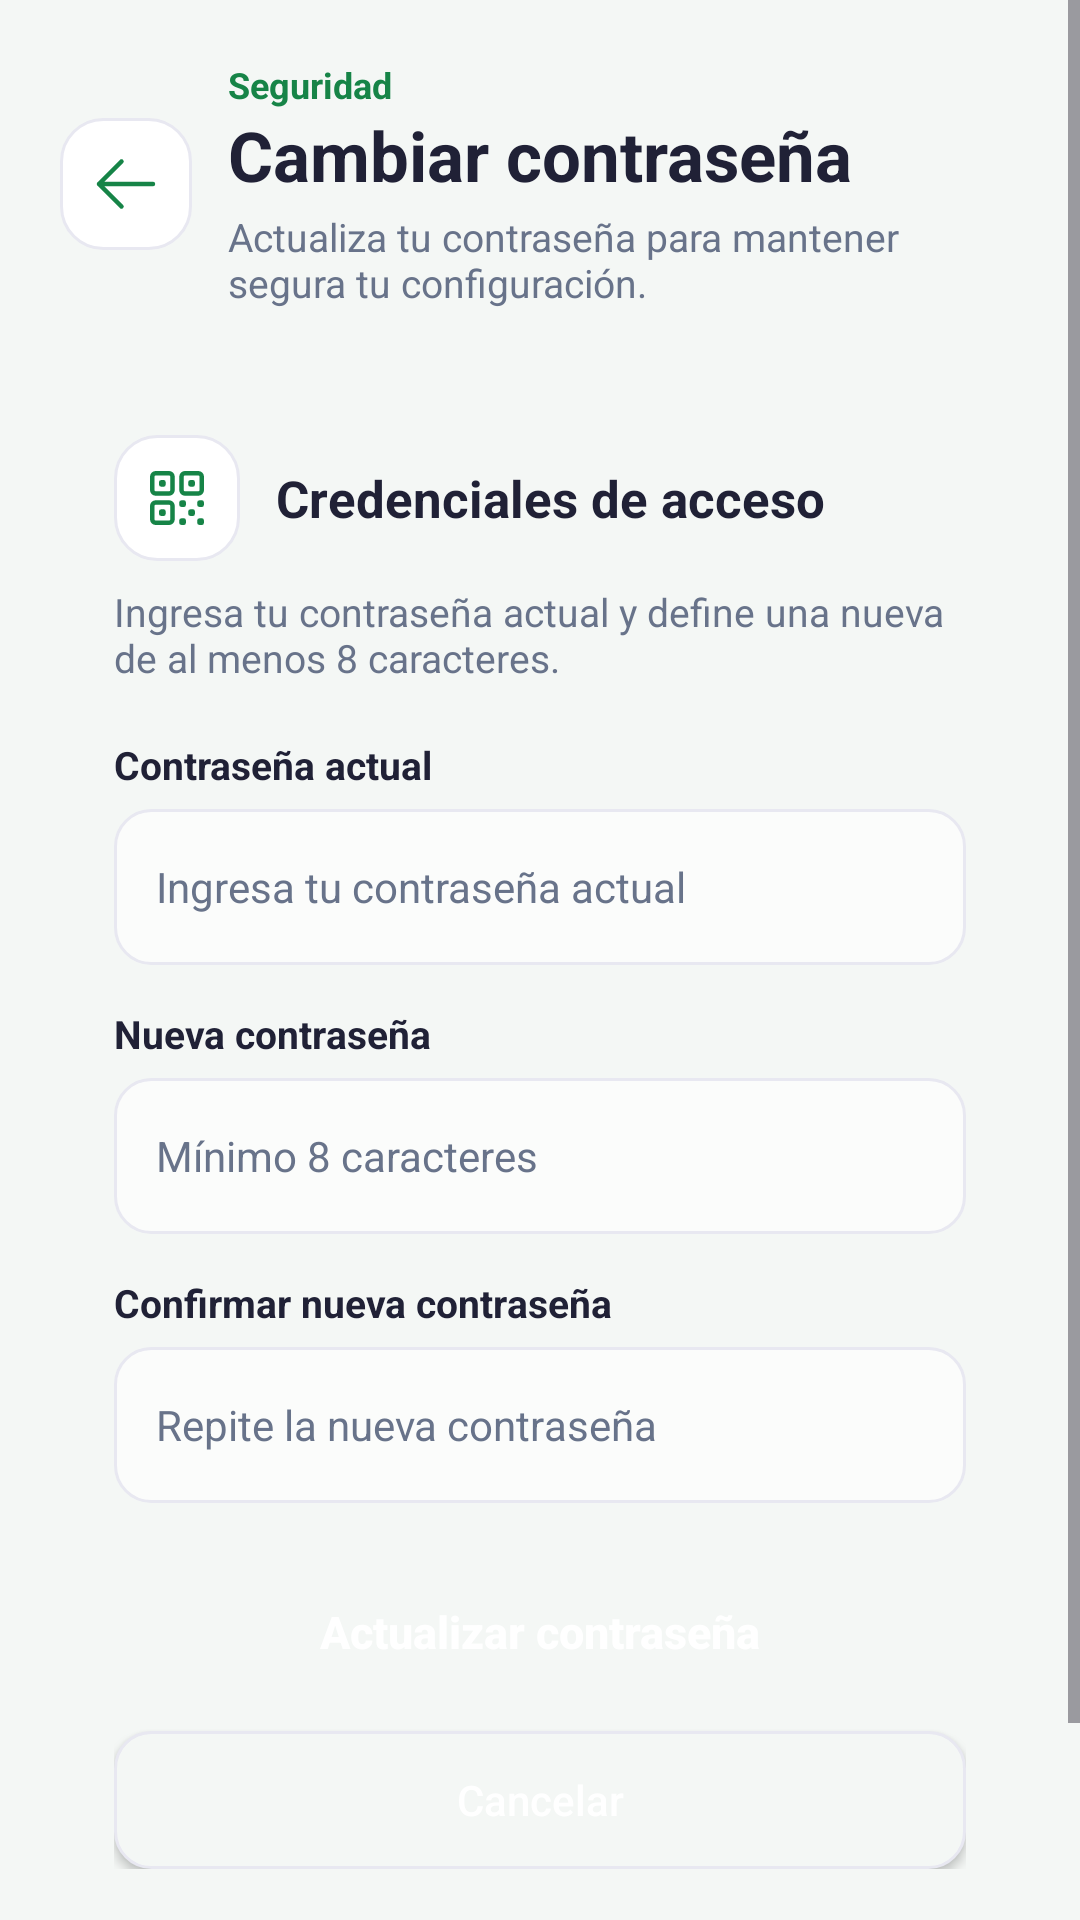

Named icons in this screenshot (1080×1920) and their centers, (x,y):
Volver: (126,184)
